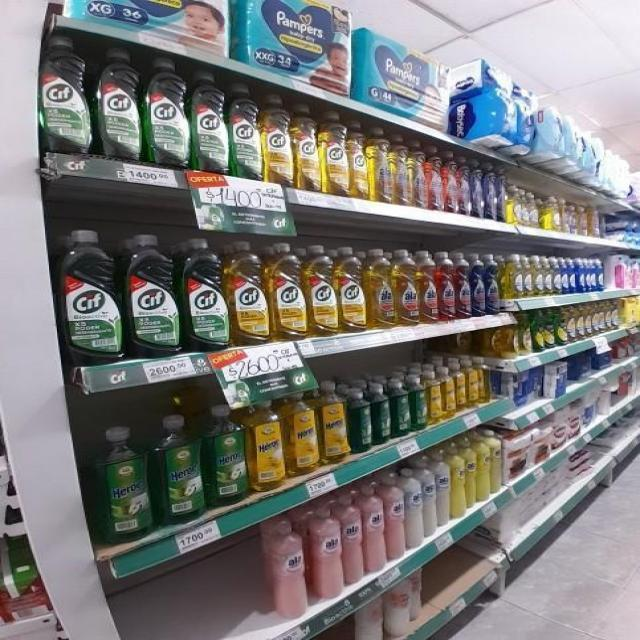ala_conc_amarillo: (366, 247, 393, 329), (393, 249, 418, 326), (368, 131, 392, 203), (419, 250, 437, 324), (393, 140, 410, 206)
ala_conc_azul: (486, 253, 500, 316), (472, 253, 485, 317)
ala_conc_rojo: (438, 251, 455, 321), (456, 252, 470, 319), (428, 150, 443, 211)
ala_crem_amarillo: (451, 441, 465, 521), (477, 429, 492, 502), (464, 435, 476, 511), (492, 429, 504, 495)
ala_crem_blanco: (406, 465, 422, 551), (436, 451, 450, 530), (423, 459, 436, 541)
ala_crem_rosado: (268, 515, 306, 620), (310, 501, 342, 602), (364, 483, 386, 576), (343, 492, 363, 587), (386, 474, 405, 562)
cif_conc_bot_amarilla: (228, 240, 268, 346), (269, 241, 305, 341), (306, 244, 337, 337), (262, 93, 292, 188), (337, 246, 365, 333), (320, 111, 348, 197), (293, 104, 319, 192), (349, 123, 367, 199)
cif_conc_botella_verde: (60, 228, 122, 364), (126, 232, 180, 358), (38, 35, 92, 156), (96, 46, 143, 162), (182, 237, 227, 352), (144, 57, 190, 169), (192, 69, 228, 174), (229, 83, 261, 181)
